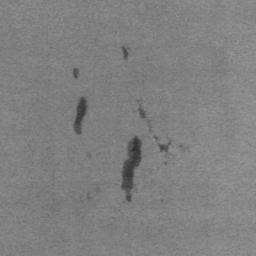Iron scale compression: (120, 136, 141, 202), (73, 97, 87, 134), (138, 105, 152, 132), (159, 140, 172, 152), (122, 47, 128, 61), (73, 68, 78, 79)
